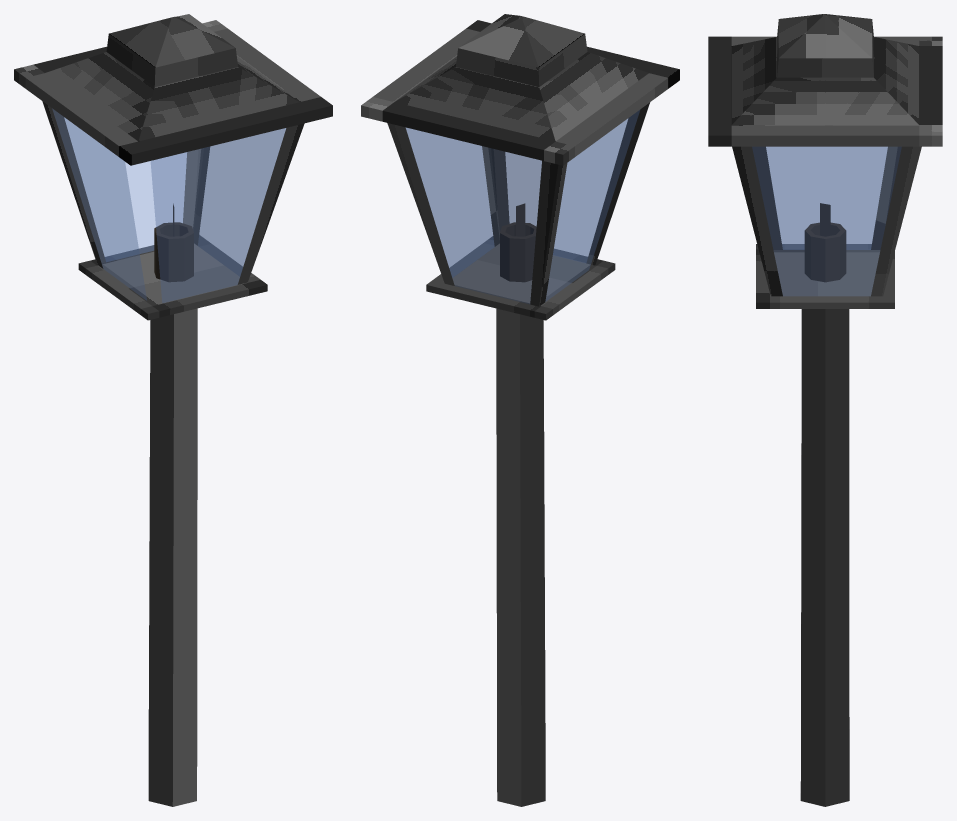
Rendered from lamp_post_889x07.gltf.
3 views of the same model, side by side, from view 1: azimuth 30°, elevation 25°; view 2: azimuth 150°, elevation 25°; view 3: azimuth 270°, elevation 25° (orthographic).
Visible parts, largest first — view 1: lamp_post_889x07; view 2: lamp_post_889x07; view 3: lamp_post_889x07.
Part boxes in pixels (<box>): lamp_post_889x07: <box>14,14,332,806</box>; lamp_post_889x07: <box>361,14,679,806</box>; lamp_post_889x07: <box>708,14,942,806</box>.
Bounding box in the file's own units: 2 × 7.35 × 2.
Materials: 2 (1 with a texture image).
